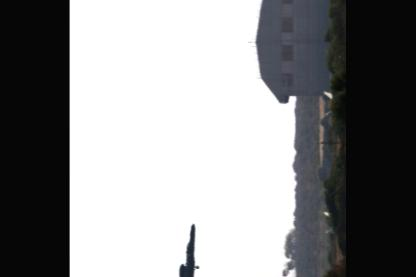Tu160: (166, 220, 199, 275)
